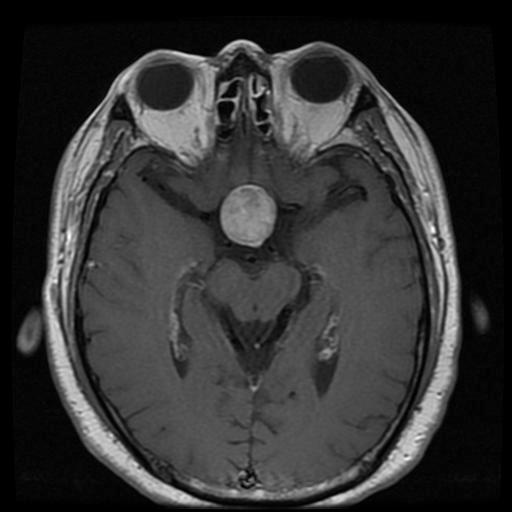Tumour-Pituitary: (208, 182, 285, 256)
